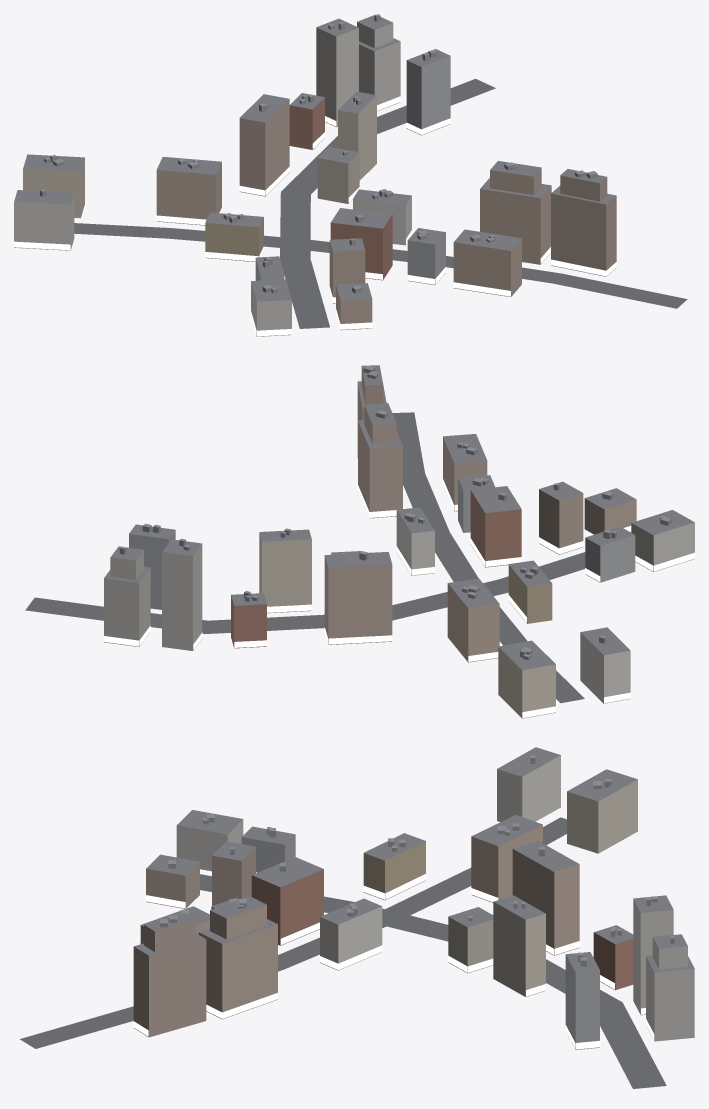
3 views of the same model, one above another, from view 1: azimuth 30°, elevation 25°; view 2: azimuth 150°, elevation 25°; view 3: azimuth 270°, elevation 25° (orthographic). The views are drawn at different scales.
Bounding box in the file's own units: 323 × 55.34 × 314.
